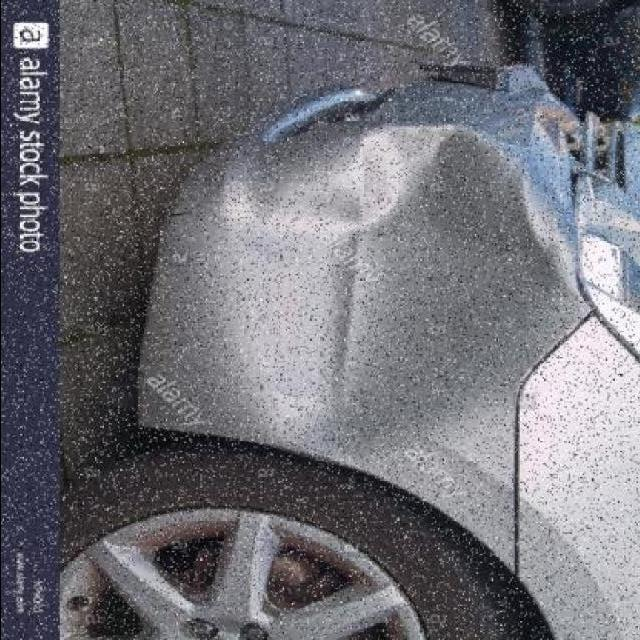front-bumper-dent: (145, 68, 589, 454)
